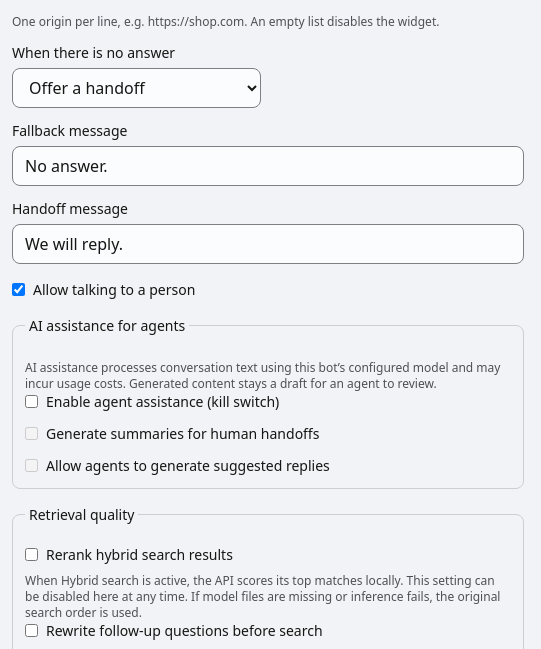
Test: BotBehaviorForm › lets an admin opt the bot into privacy-aware follow-up query rewriting
Click the checkbox labelled "Rewrite follow-up questions before search" at (32, 631), box [25, 624, 38, 637]
(page scrolled)
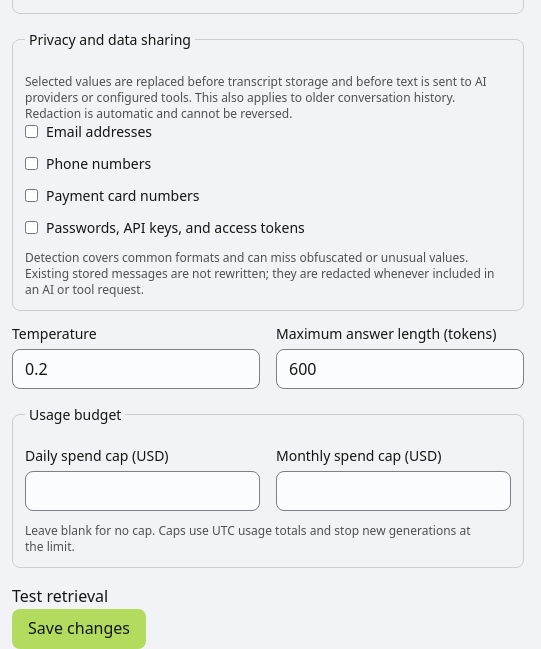
Click the button "Save changes" at (79, 629), box [12, 609, 146, 648]
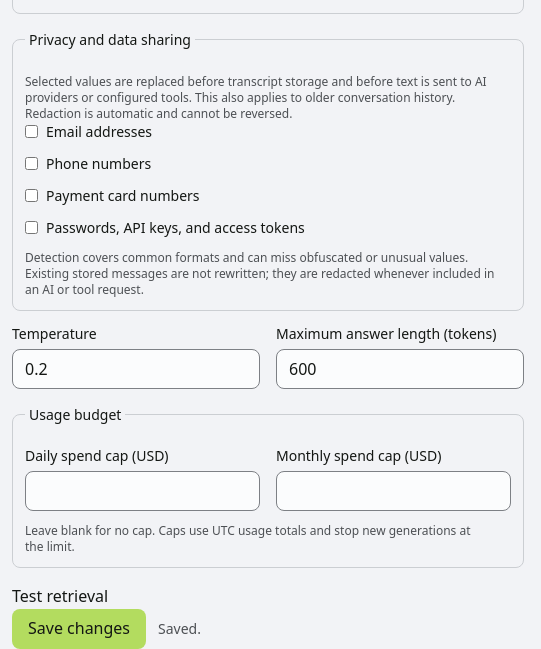
Expected: the text "Saved." is shown, [158, 619, 201, 639]
